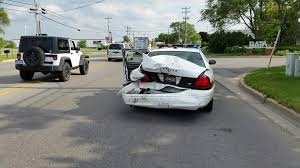Smashed: (122, 56, 205, 108)
